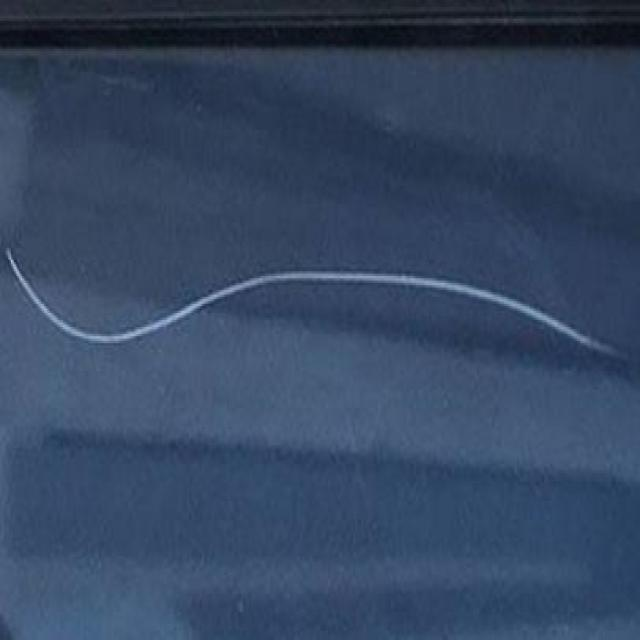scratch: (8, 225, 630, 383)
